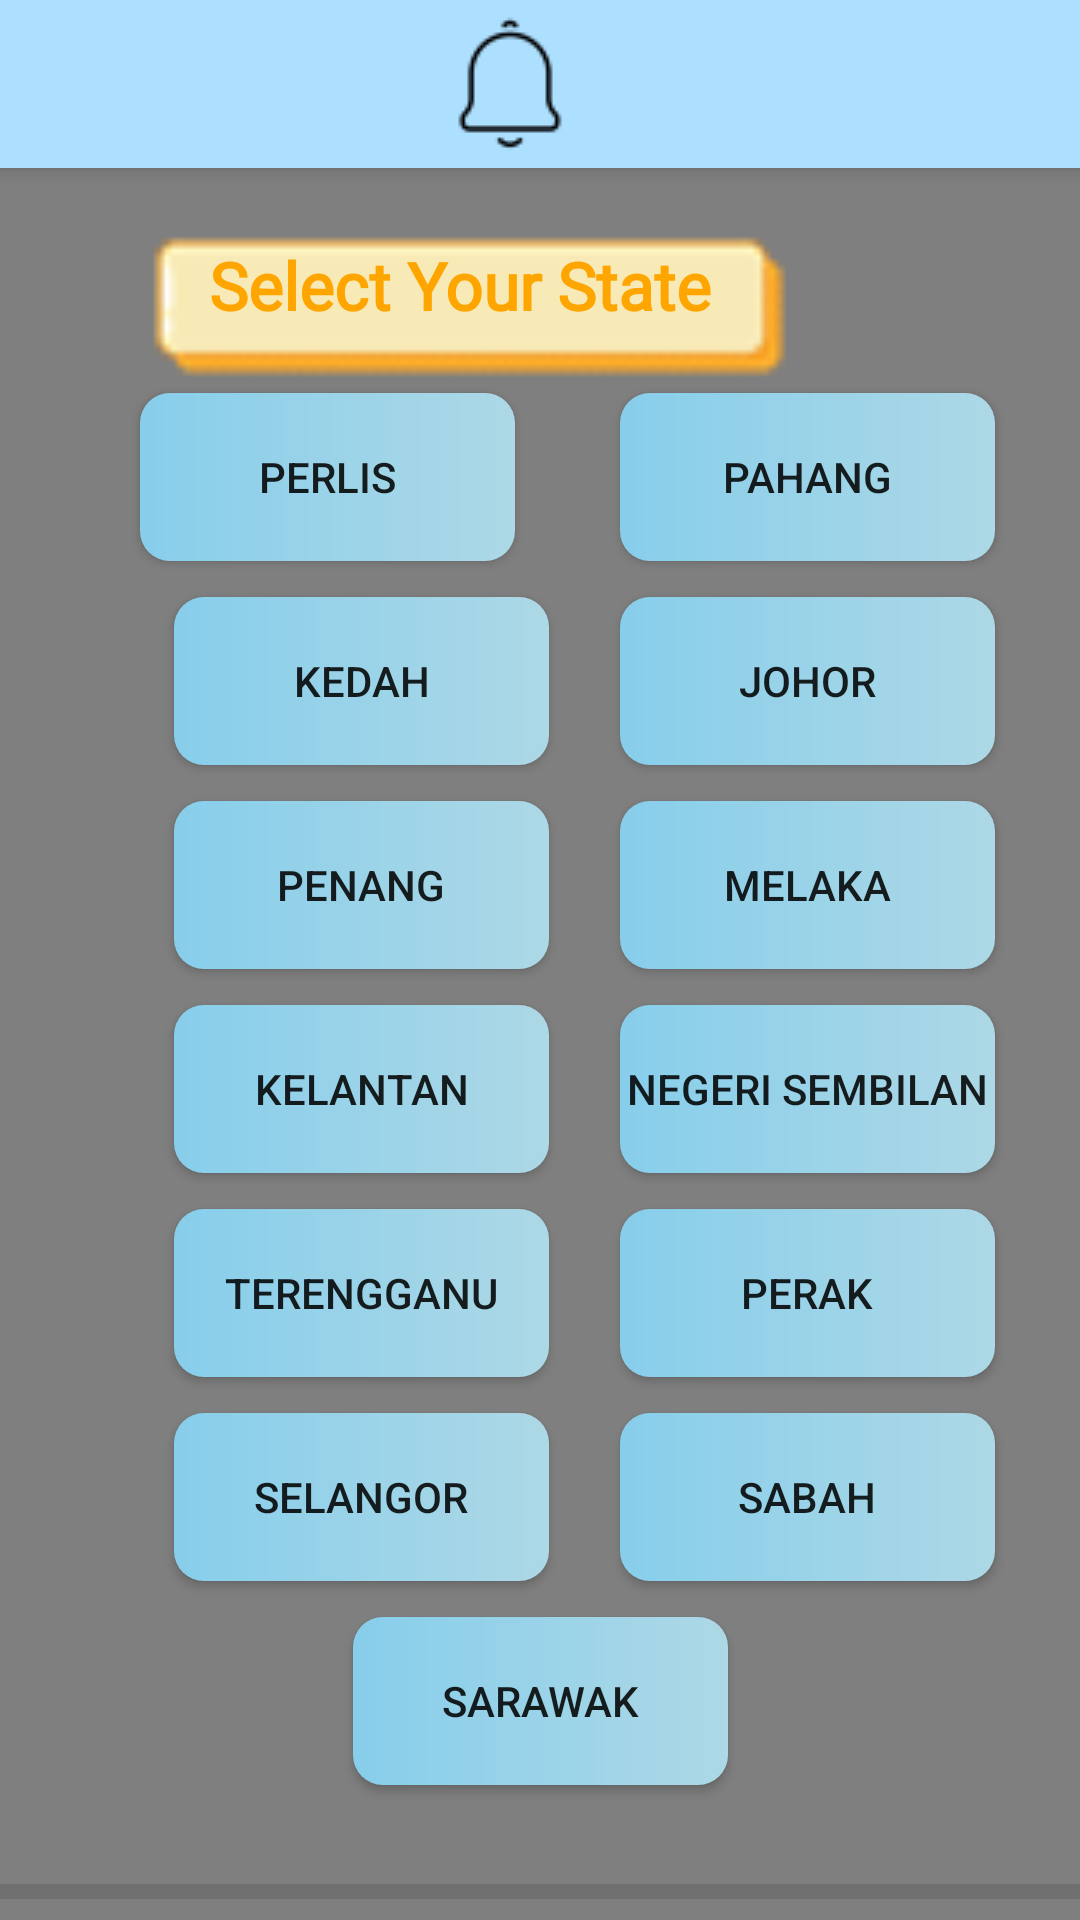

Where to tap for icons on this 1080*1920 app screen, as point (x, y):
notification: point (510, 83)
